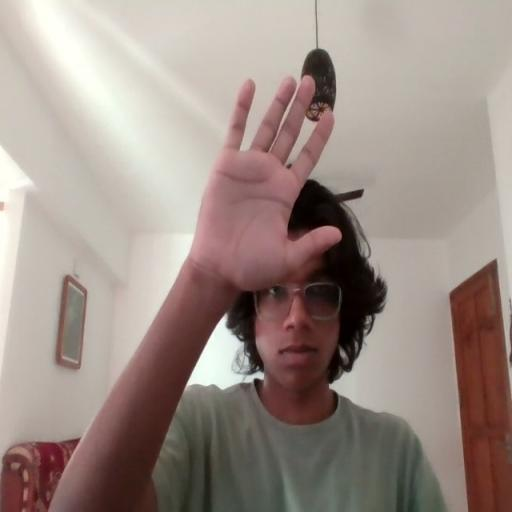Paper: (186, 71, 342, 278)
